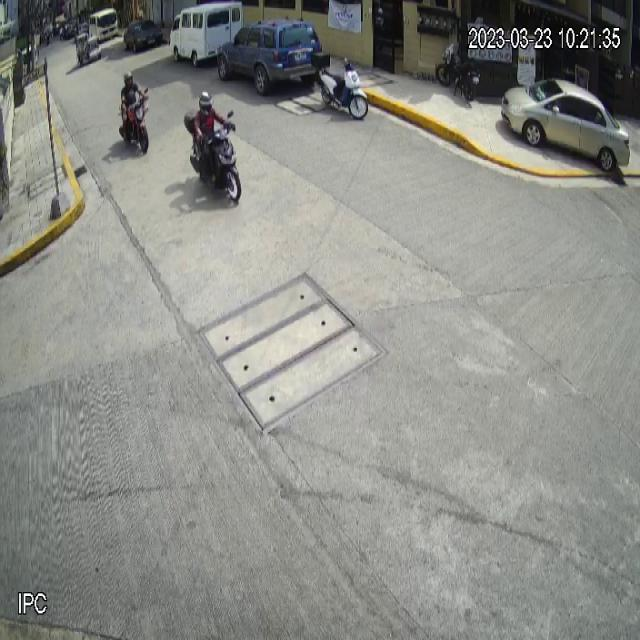Car: (501, 76, 632, 176), (216, 19, 322, 94)
Motorcycle: (182, 108, 243, 205), (310, 50, 370, 120), (118, 86, 152, 156)
Van: (168, 1, 244, 70)
